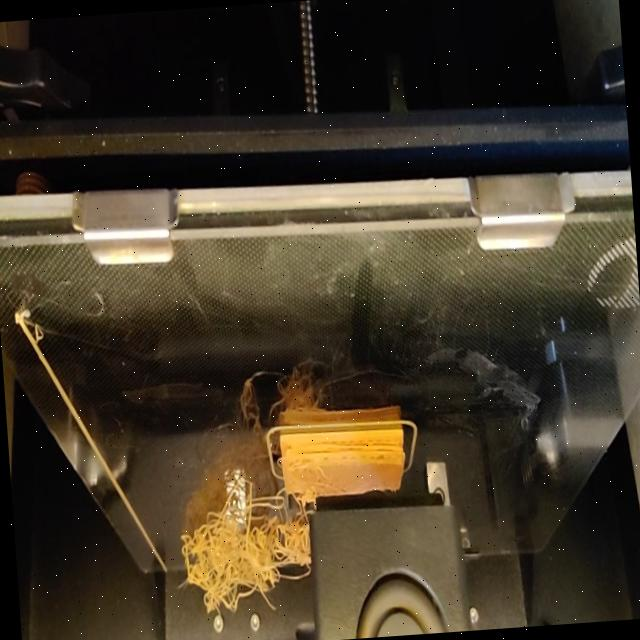spaghetti: (175, 485, 314, 618)
